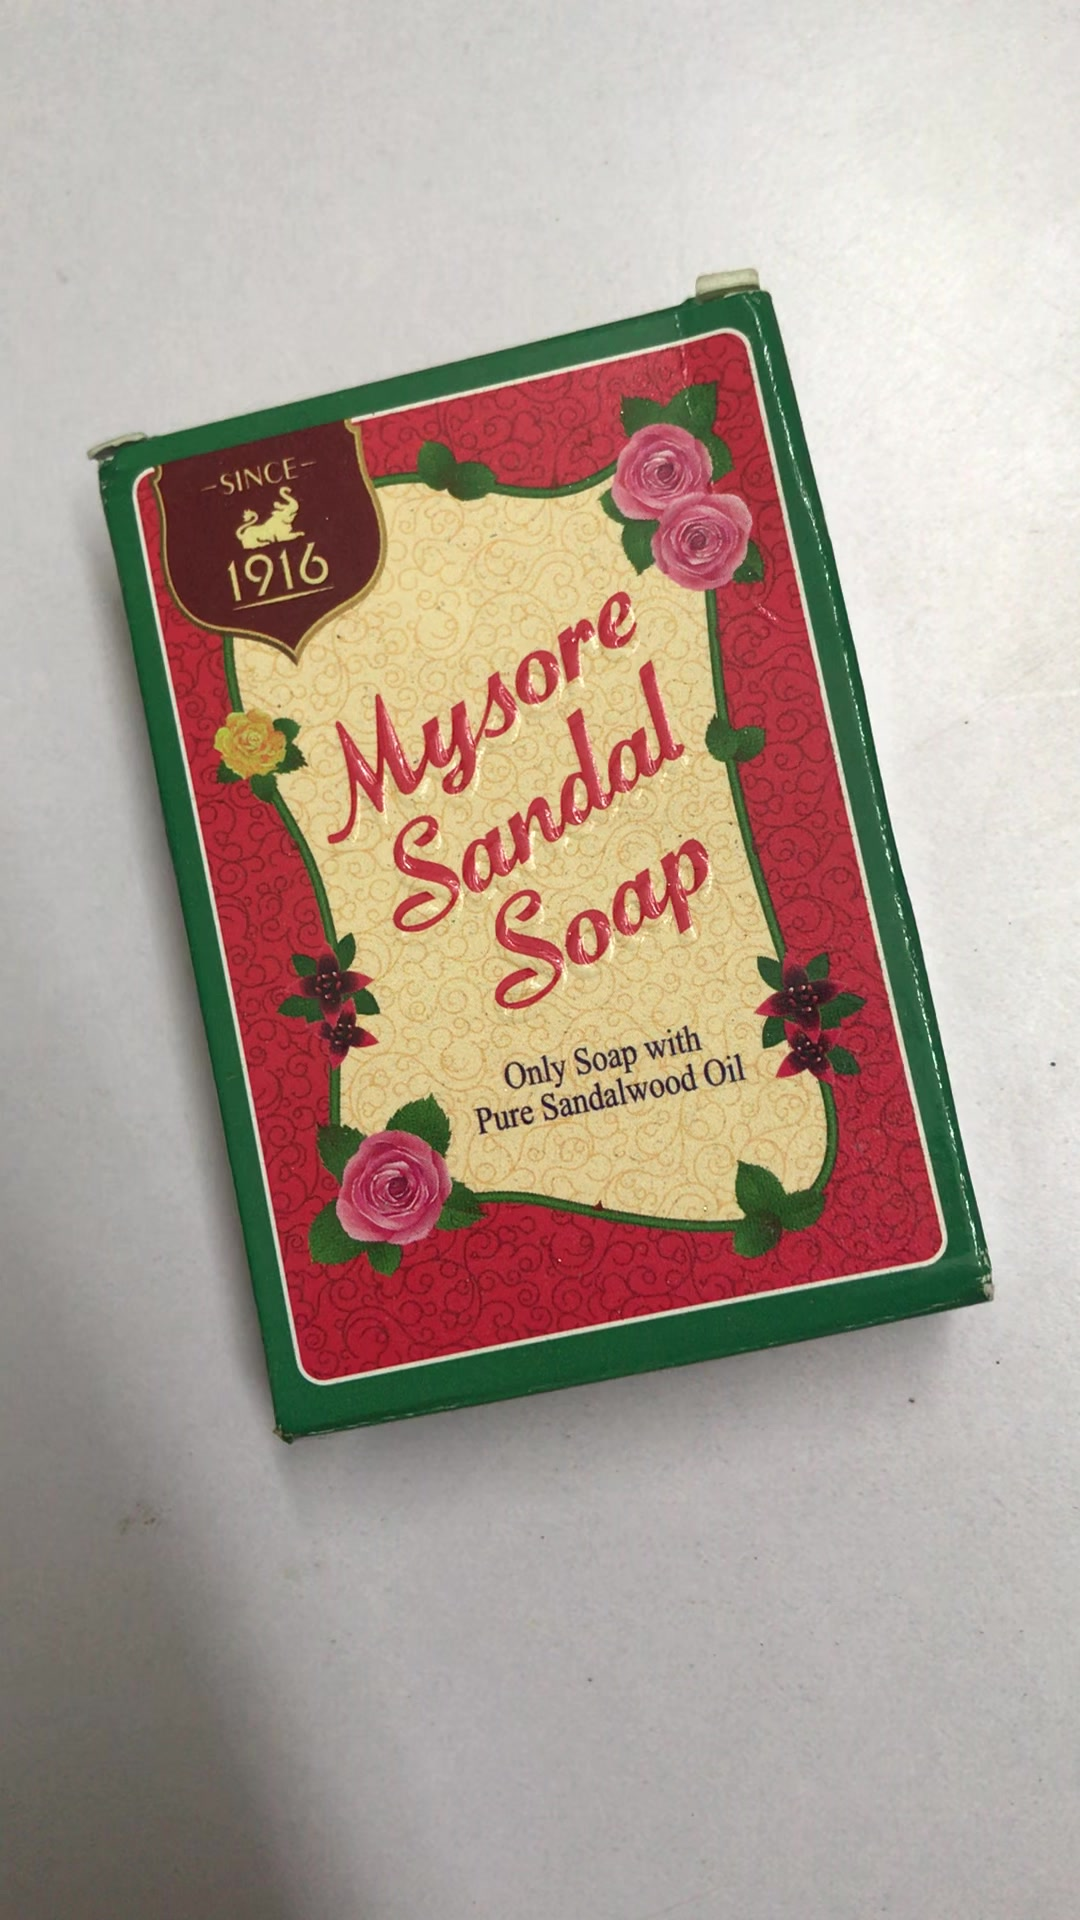mysore sandal soap: (84, 291, 993, 1452)
